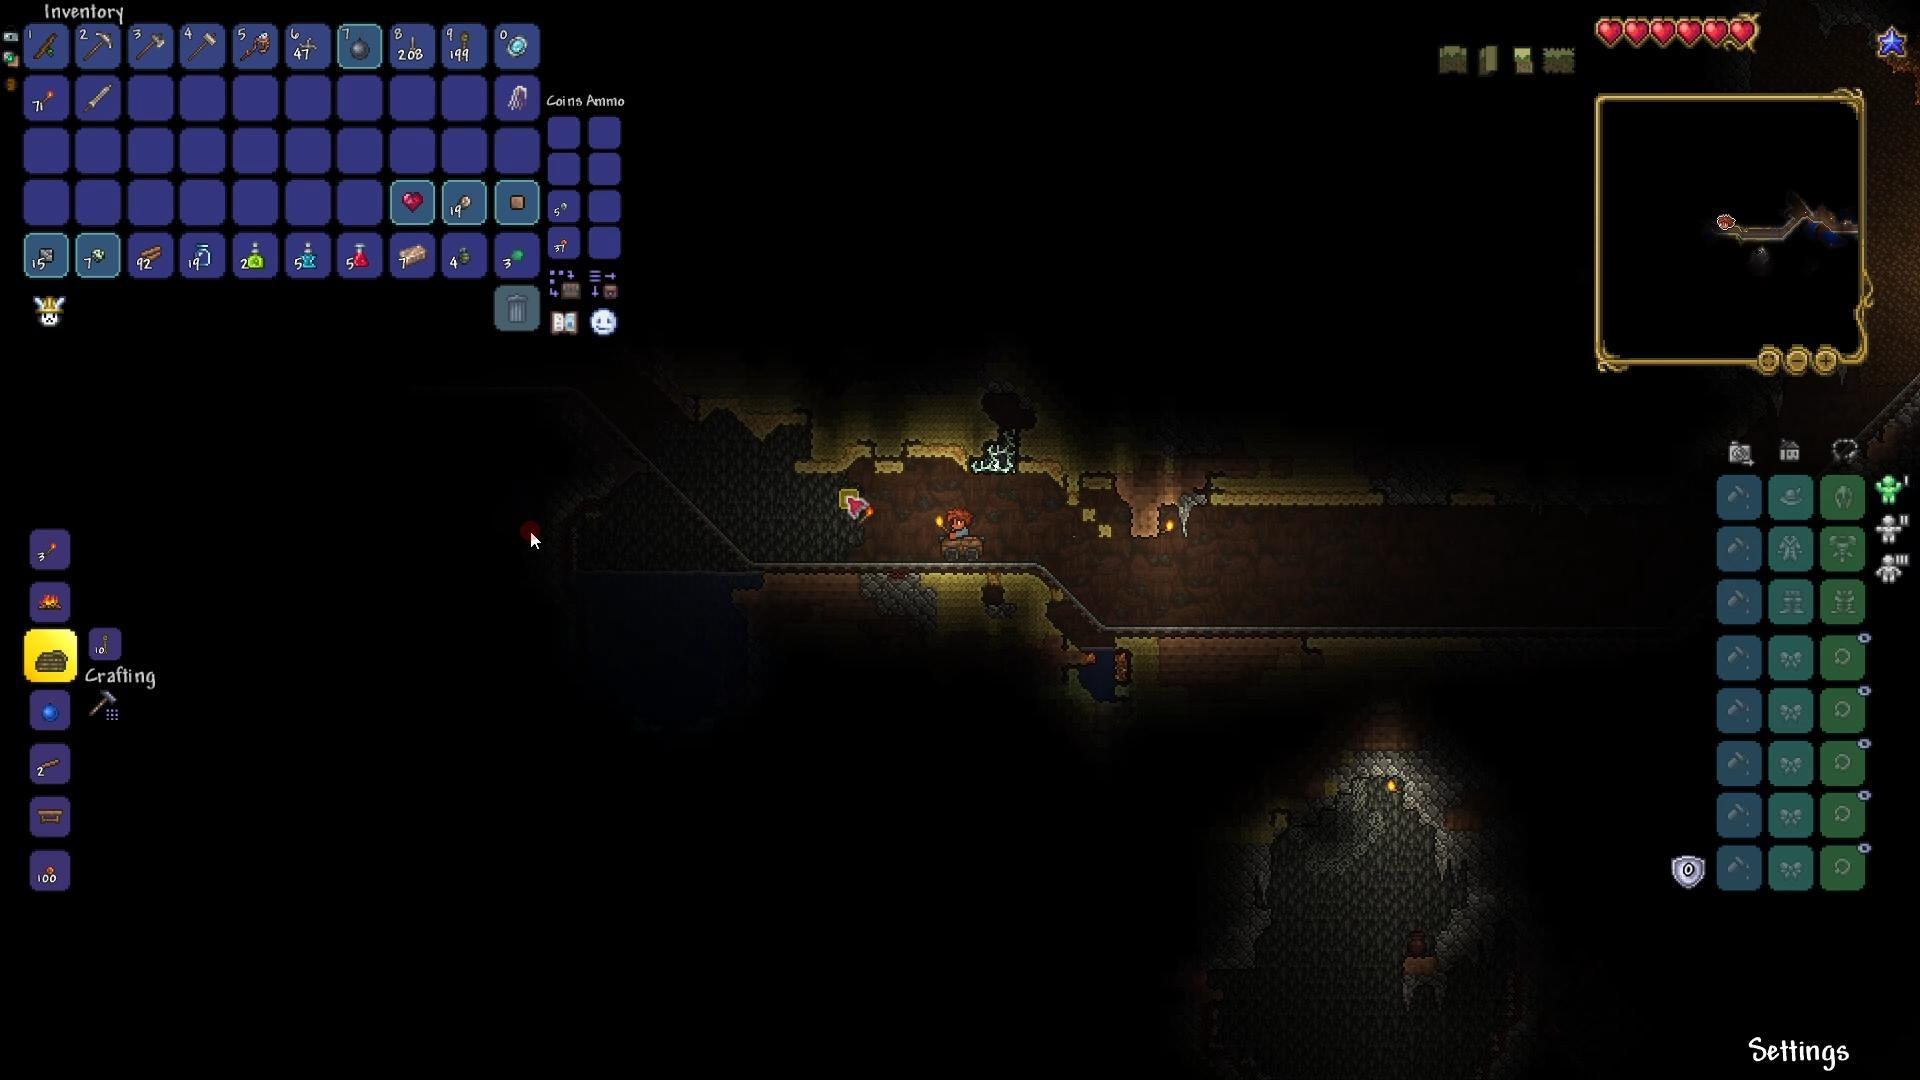sand: (696, 388, 815, 448), (1211, 472, 1379, 508), (876, 430, 968, 472), (793, 435, 876, 479), (918, 567, 1040, 595), (1017, 446, 1068, 477), (1116, 629, 1160, 650)
